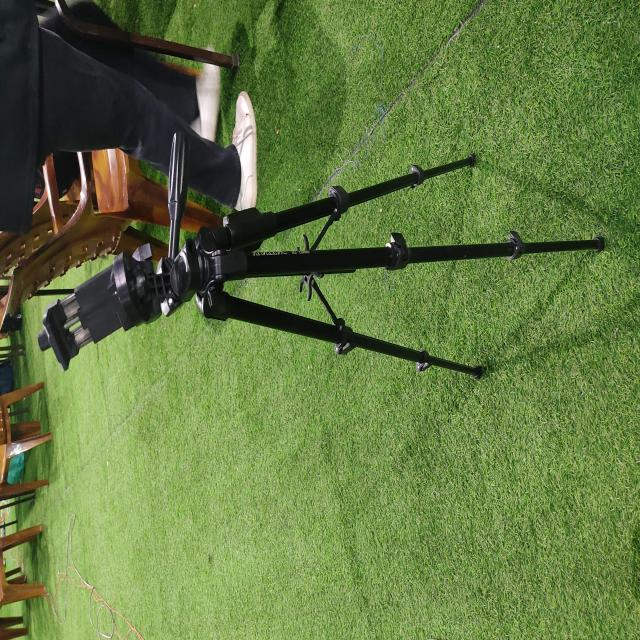Camer Stand: (36, 135, 606, 382)
